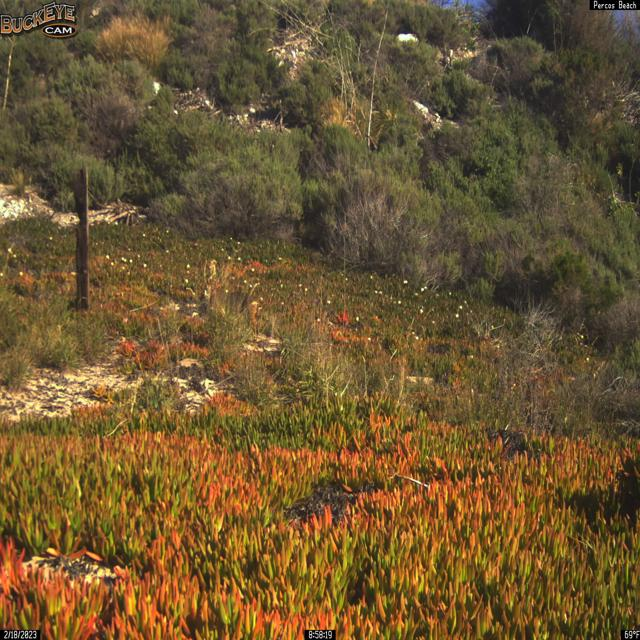bobcat: (198, 279, 262, 338)
